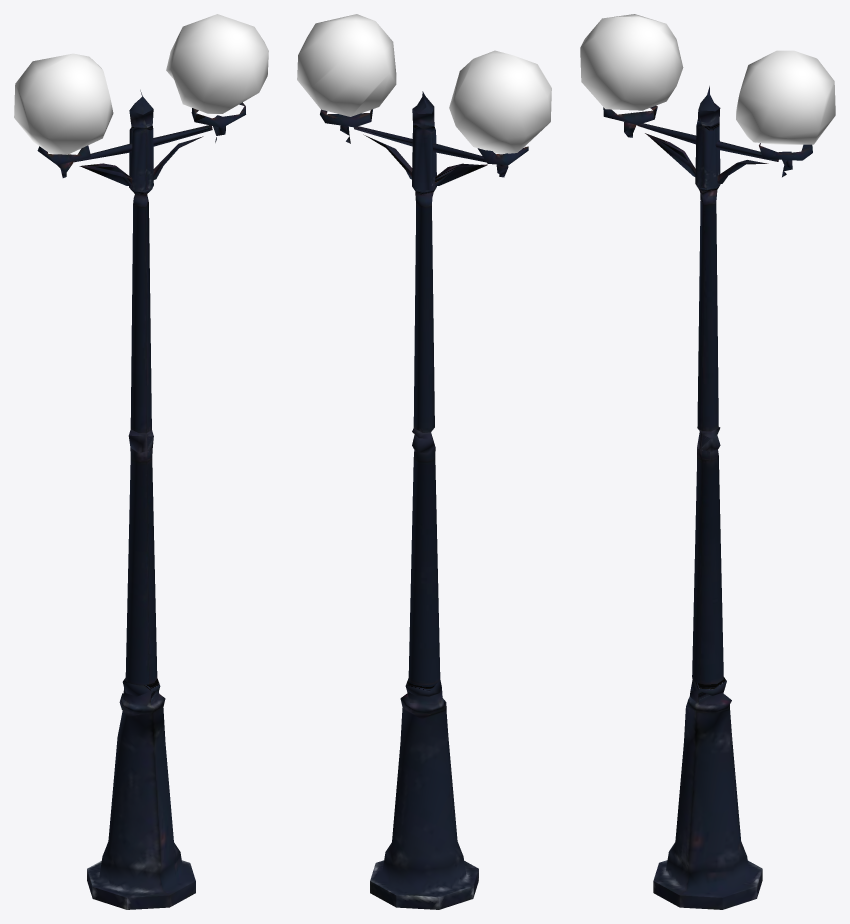
File: den-duong.glb
3 renders of one model, left to right at view 1: azimuth 30°, elevation 25°; view 2: azimuth 150°, elevation 25°; view 3: azimuth 330°, elevation 25°, orthographic.
Visible parts, largest first — view 1: Cylinder014_metal_0, Cylinder014_glass_0; view 2: Cylinder014_metal_0, Cylinder014_glass_0; view 3: Cylinder014_metal_0, Cylinder014_glass_0.
Part boxes in pixels (x1,y1,x2,y2): Cylinder014_metal_0: (37, 90, 245, 909); Cylinder014_glass_0: (14, 14, 268, 154); Cylinder014_metal_0: (320, 91, 528, 909); Cylinder014_glass_0: (297, 14, 551, 154); Cylinder014_metal_0: (603, 86, 812, 909); Cylinder014_glass_0: (580, 14, 835, 144).
Bounding box in the file's own units: 0.2963 × 0.9988 × 0.12.
Materials: 2 (2 with a texture image).
